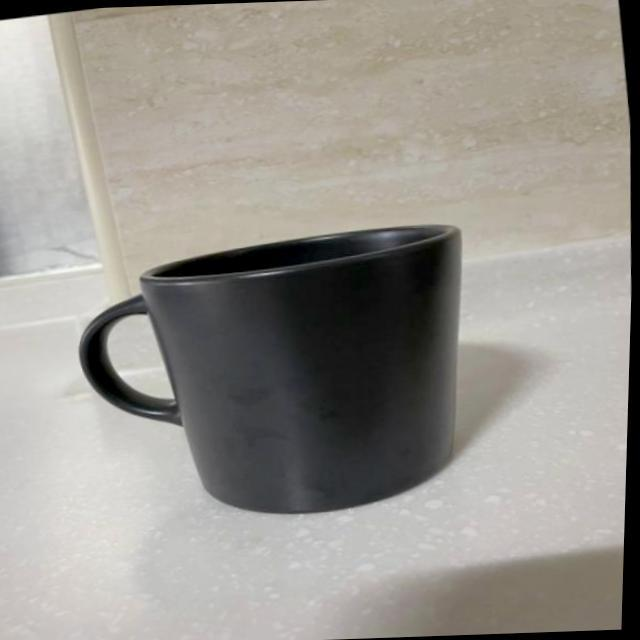cup: (453, 213, 500, 491)
